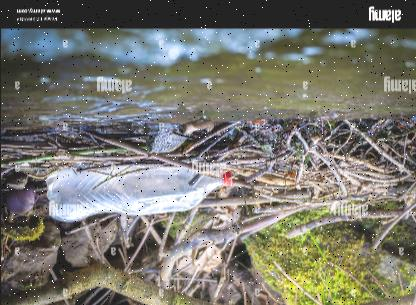Plastic Bottle: (26, 162, 244, 226)
